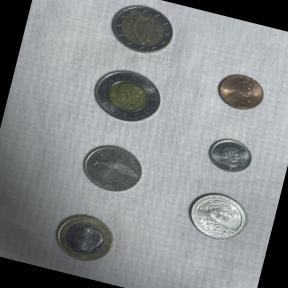1 Euro-B: (46, 206, 124, 272)
2 Euro-B: (100, 0, 182, 65)
Canada-10cent-B: (198, 128, 258, 179)
Canada-2Dollar-B: (82, 58, 172, 134)
Croatia-2Kune-B: (72, 135, 149, 202)
US-1cent-B: (208, 63, 272, 118)
US-25cent-B: (180, 184, 254, 247)
